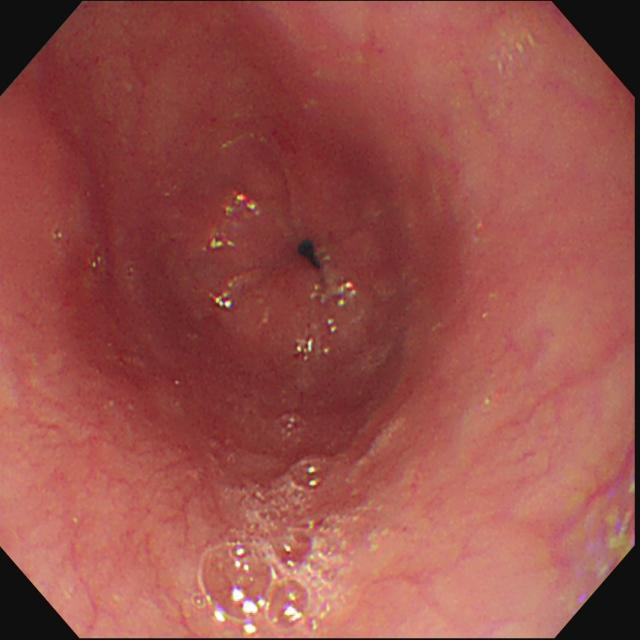I: (221, 162, 382, 355)
T: (197, 452, 351, 636)
U: (219, 191, 262, 222), (208, 283, 237, 311), (206, 233, 236, 252)
